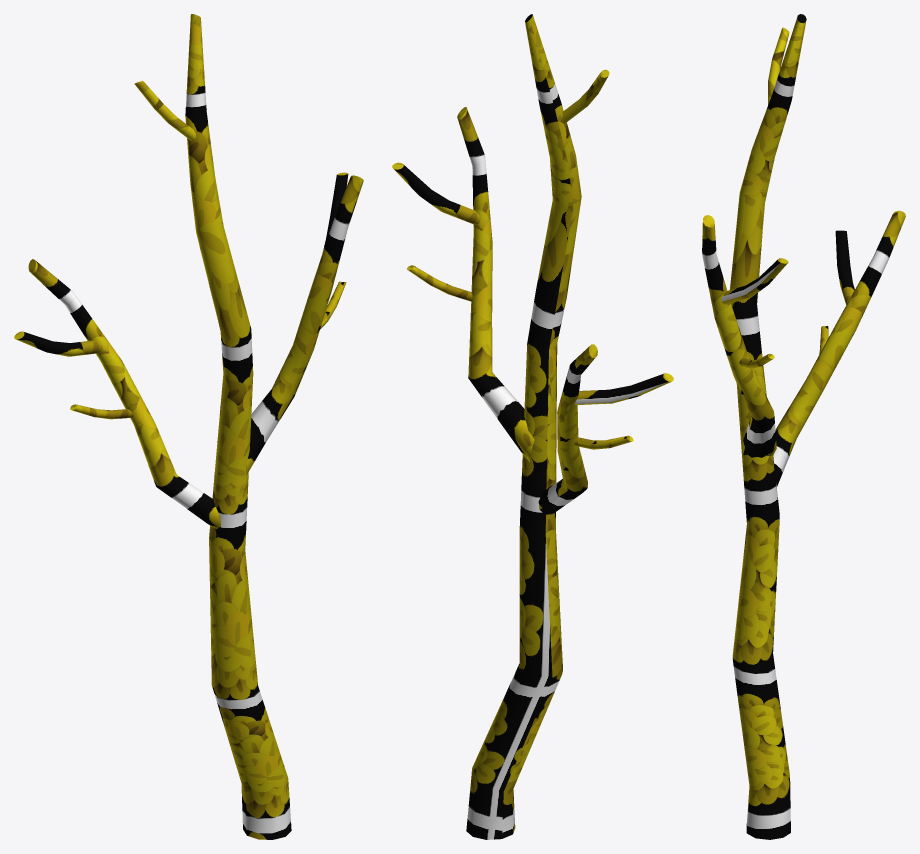
File: dead_birch_7.glb
The picture shows the model from 3 angles, left to right: view 1: azimuth 30°, elevation 25°; view 2: azimuth 150°, elevation 25°; view 3: azimuth 270°, elevation 25°; orthographic projection. The views are drawn at different scales.
Parts seen in each view (by area): view 1: DeadBirch_7_Cylinder.056; view 2: DeadBirch_7_Cylinder.056; view 3: DeadBirch_7_Cylinder.056.
Boxes of the visible parts, x1=… form: DeadBirch_7_Cylinder.056: x1=14, y1=14, x2=363, y2=839; DeadBirch_7_Cylinder.056: x1=392, y1=14, x2=673, y2=839; DeadBirch_7_Cylinder.056: x1=702, y1=14, x2=905, y2=839.
Size of the model in its own units: 3.81 by 9.85 by 2.31.
Materials: 1 (1 with a texture image).
